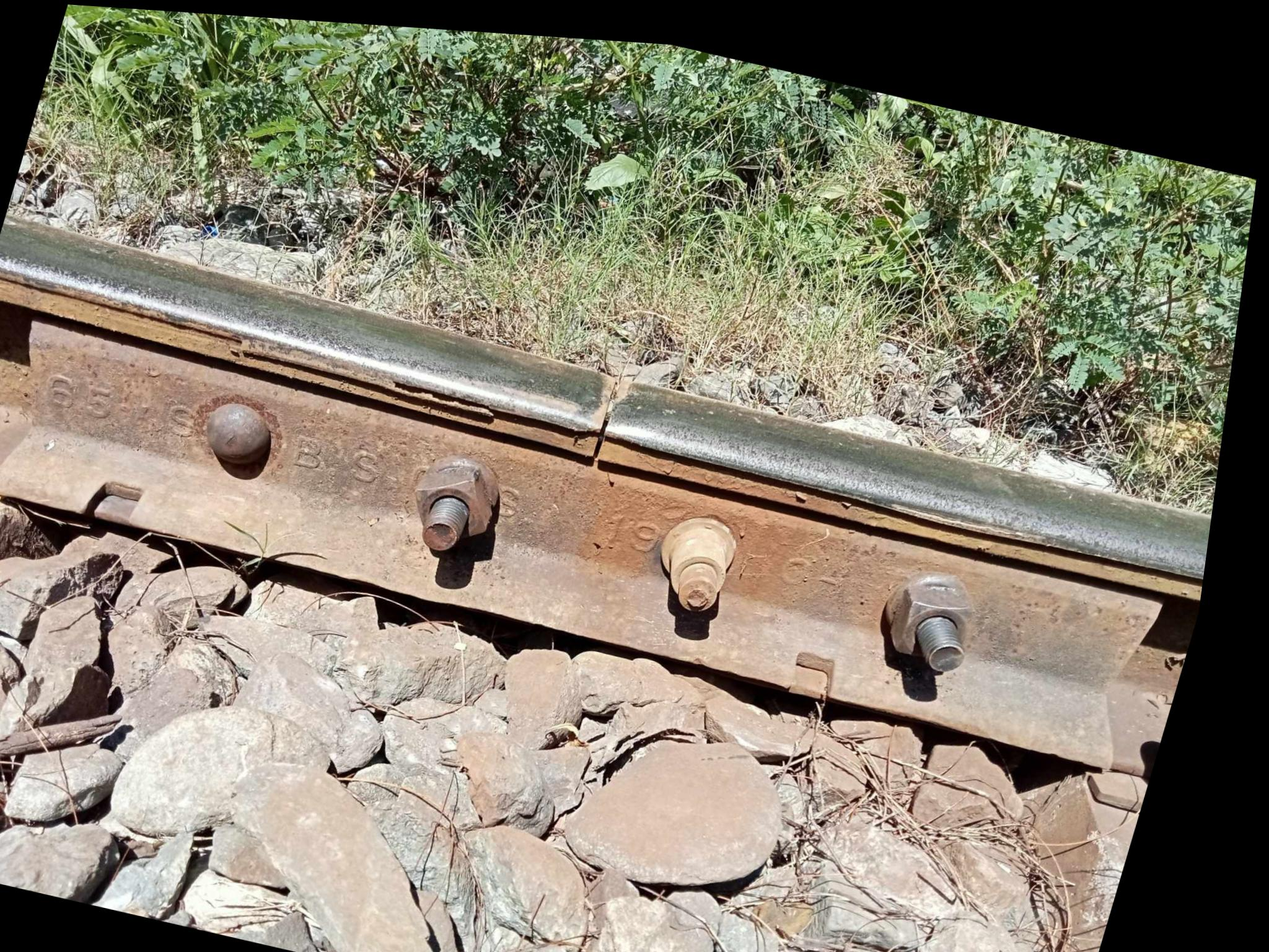person: (522, 322, 713, 485)
